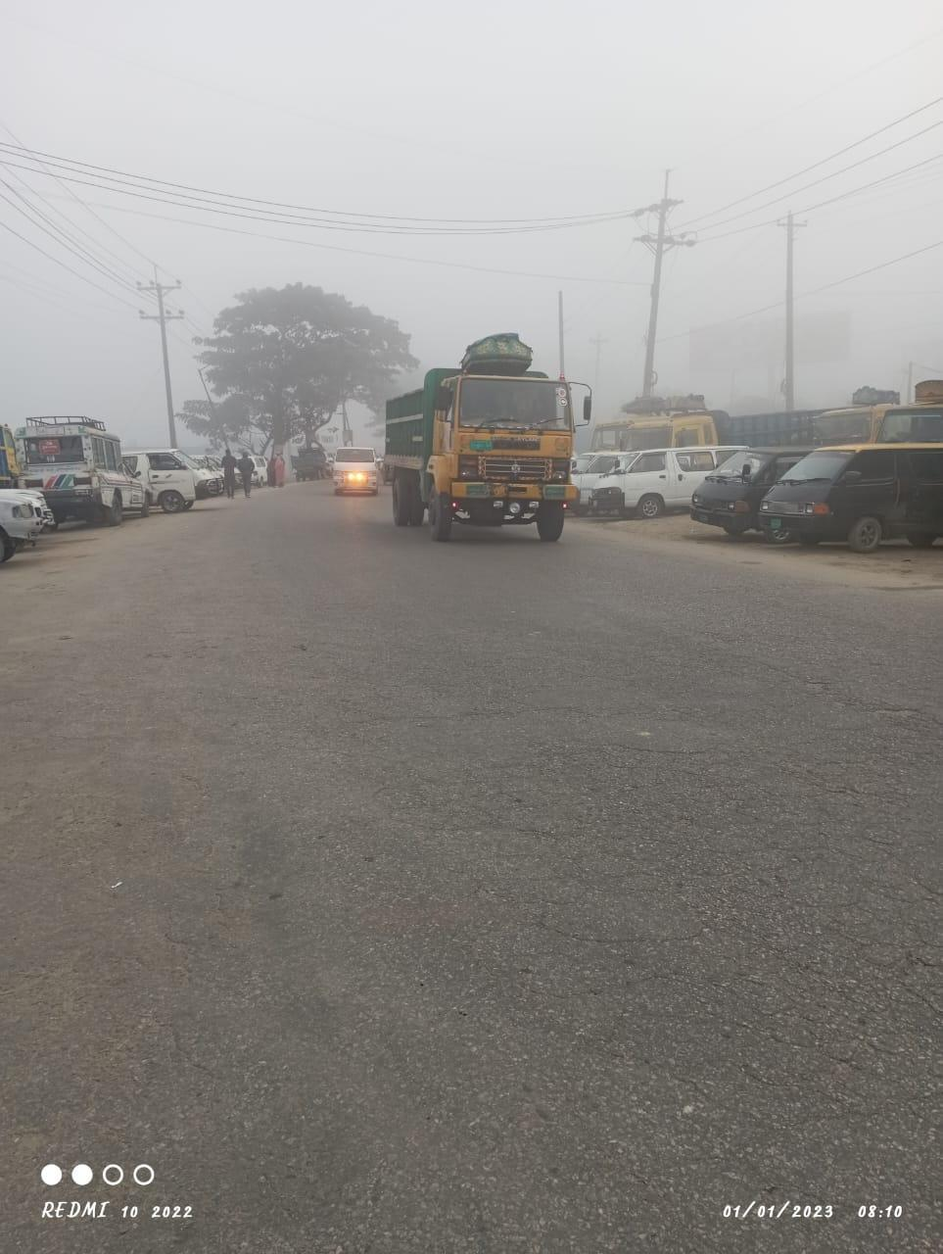Car: (756, 438, 943, 559), (24, 412, 154, 533), (597, 435, 772, 520), (129, 432, 227, 522), (319, 437, 388, 503)
Truck: (373, 318, 603, 568)
